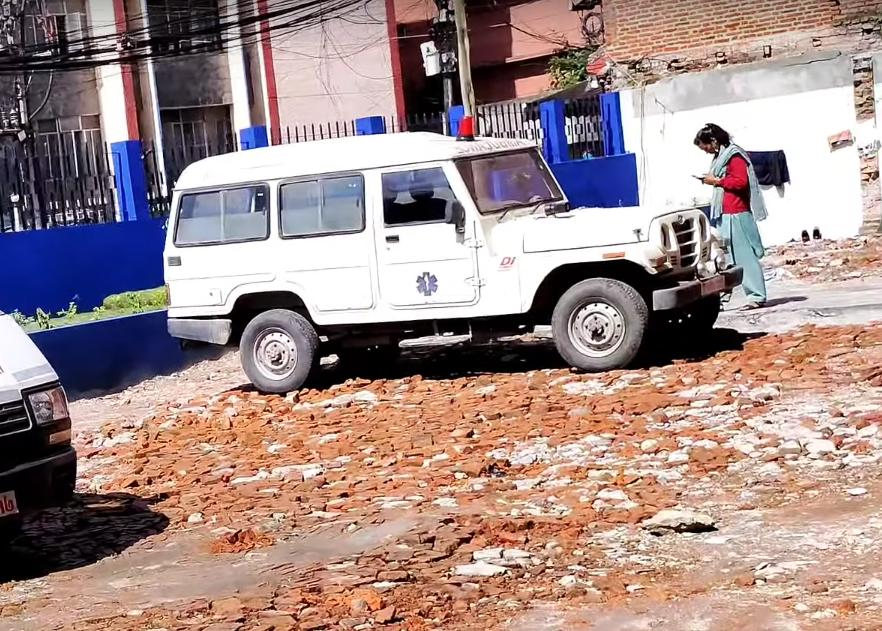ambulance: (157, 107, 753, 406)
